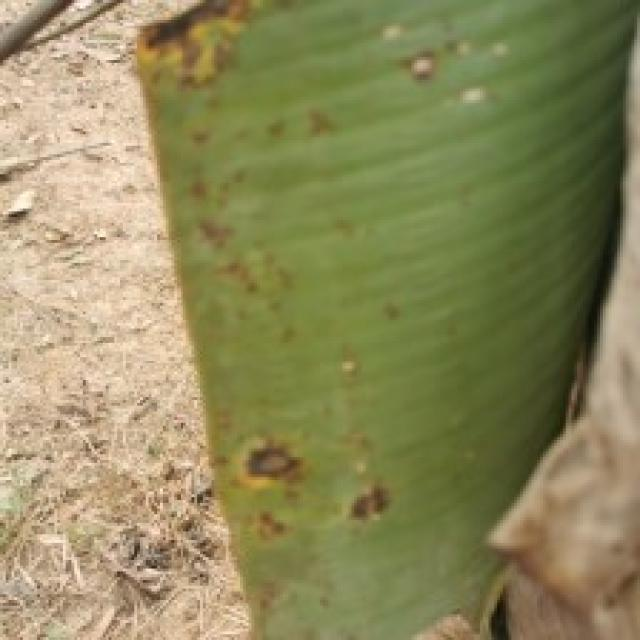Downey_mildrew: (123, 0, 406, 629), (390, 10, 560, 136)
